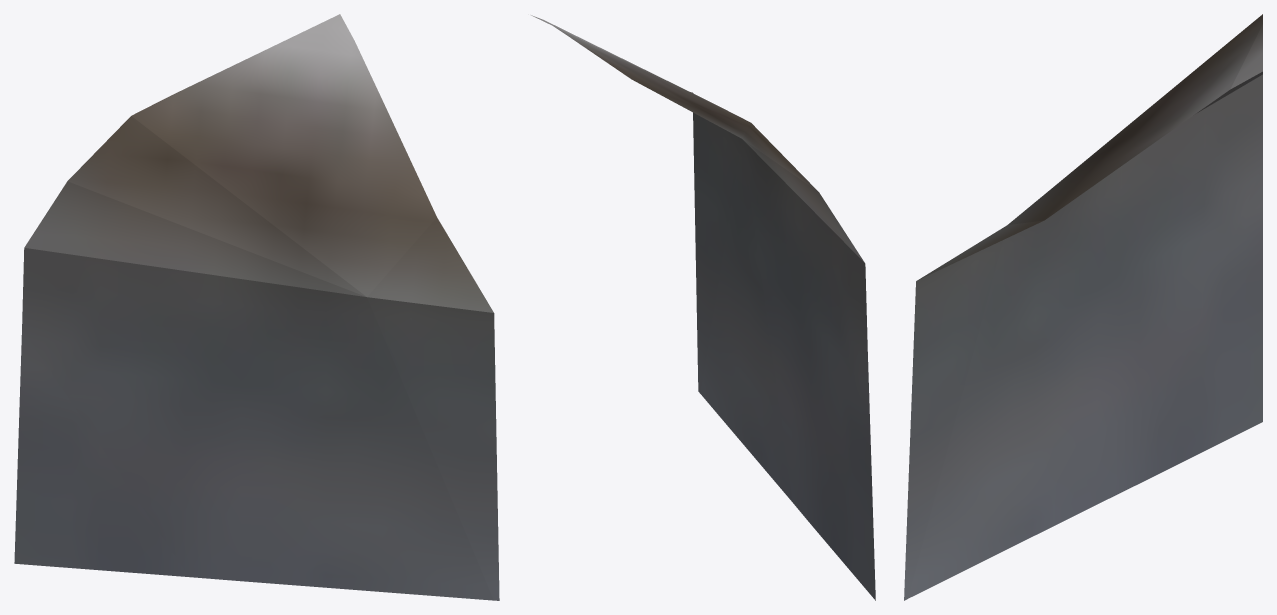
3 views of the same model, side by side, from view 1: azimuth 30°, elevation 25°; view 2: azimuth 150°, elevation 25°; view 3: azimuth 270°, elevation 25° (orthographic). The views are drawn at different scales.
Size of the model in its own units: 0.0421 by 0.0581 by 0.0357.
1 material, 1 textured.
